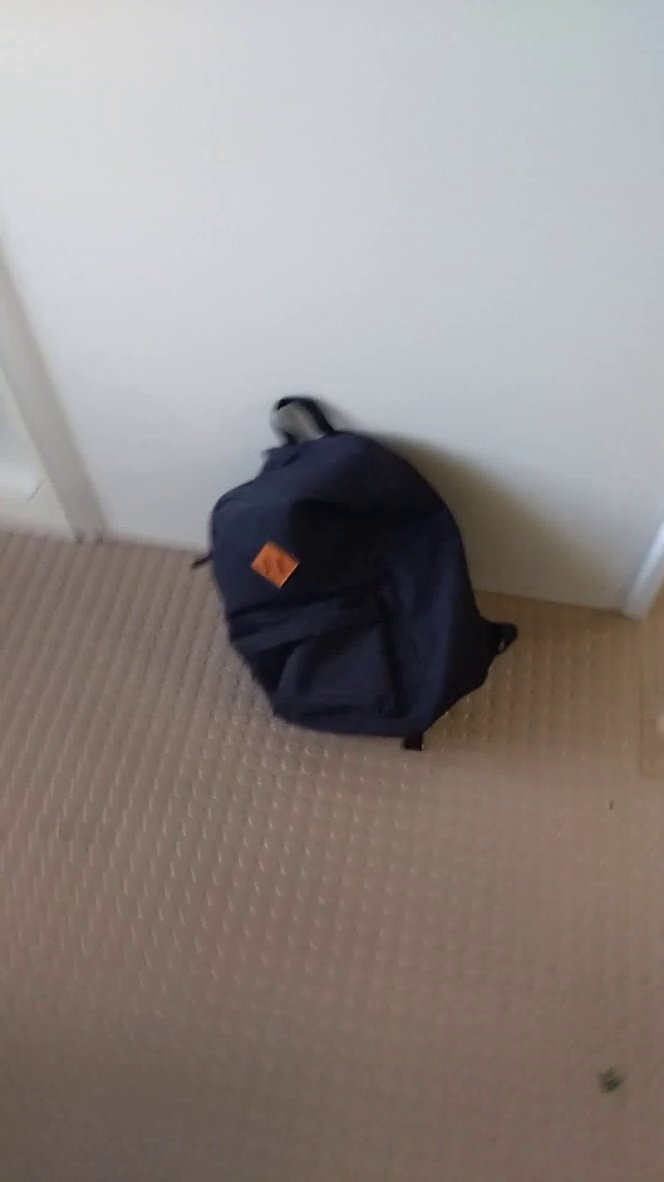bag: (181, 380, 523, 762)
